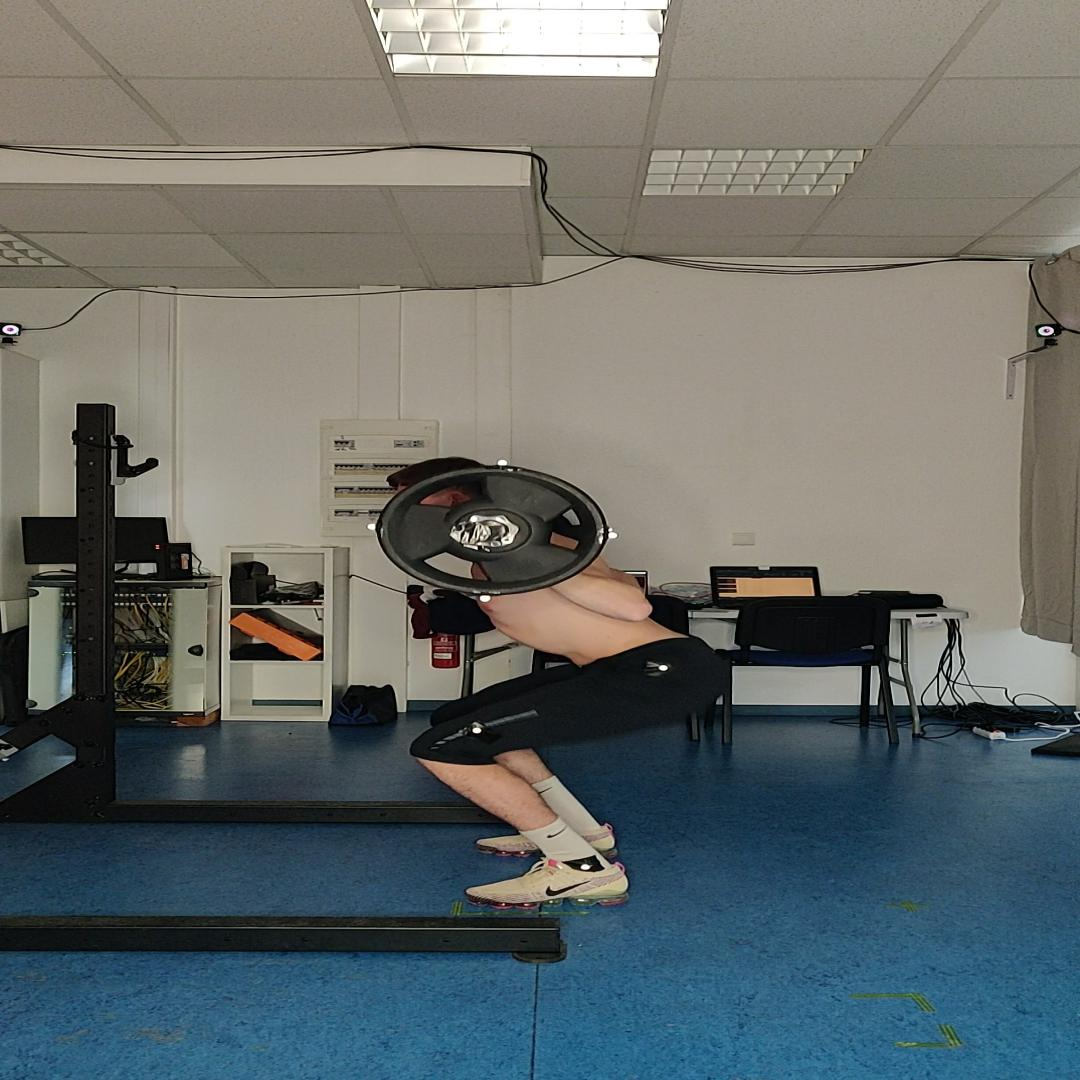Bar: (449, 521, 491, 544)
Barbell: (377, 465, 608, 596)
